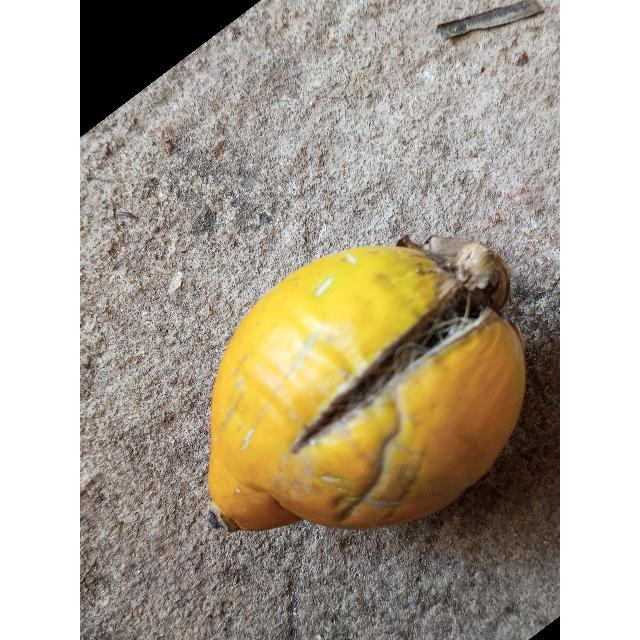damaged: (208, 236, 525, 532)
